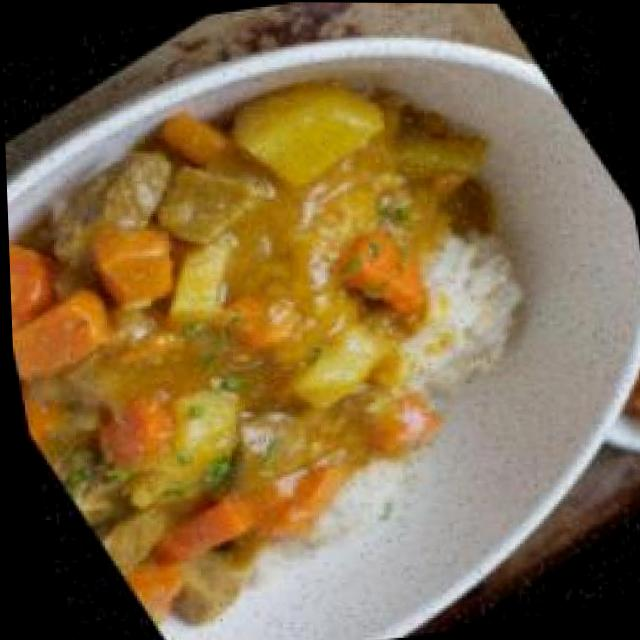curry: (0, 0, 626, 639)
